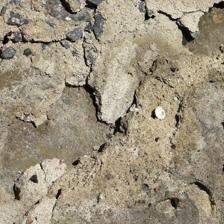Crack: (22, 0, 99, 94), (14, 38, 101, 105), (2, 2, 104, 54), (22, 13, 109, 43)
